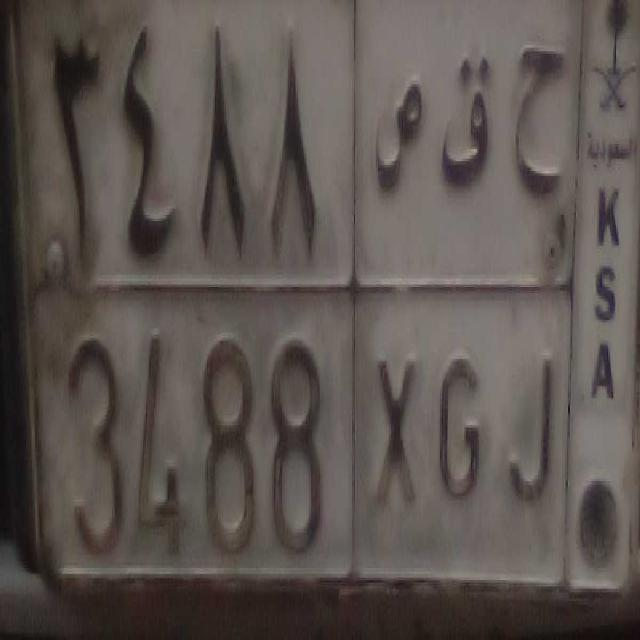license_plate: (32, 283, 568, 598)
